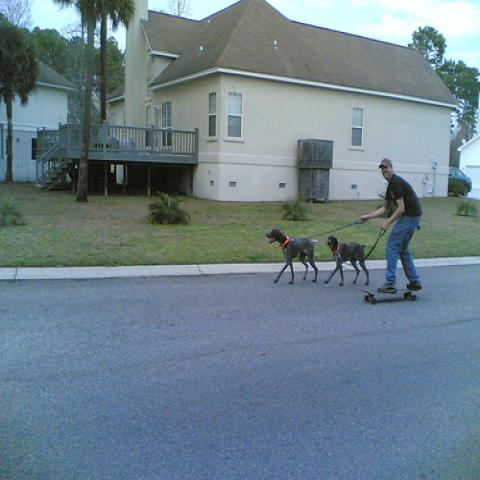car: (448, 166, 472, 197)
